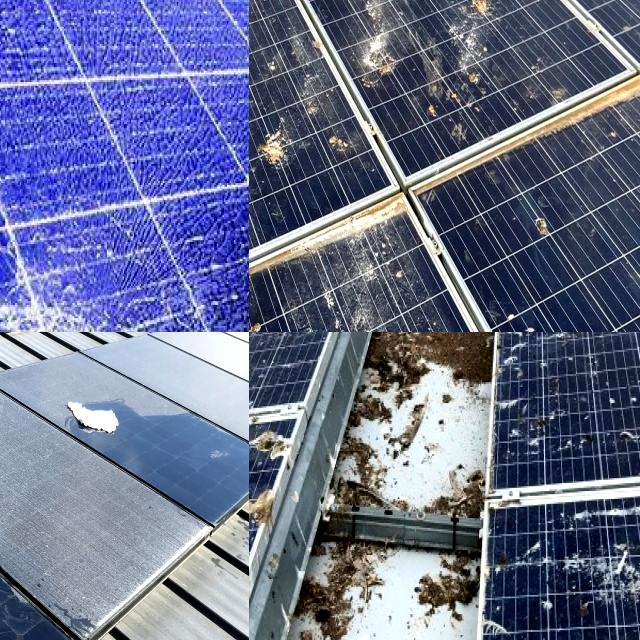bird: (414, 59, 502, 144), (249, 6, 291, 129), (357, 232, 407, 332), (314, 82, 368, 168), (507, 198, 572, 260), (518, 56, 579, 121), (504, 414, 589, 459), (249, 105, 297, 182), (355, 0, 394, 94), (249, 481, 304, 539), (249, 126, 267, 265), (598, 543, 640, 591), (249, 378, 296, 420), (249, 428, 299, 467), (249, 332, 311, 359), (448, 0, 502, 30), (619, 402, 640, 477), (249, 180, 268, 262), (579, 0, 640, 25), (549, 332, 601, 358), (528, 332, 581, 355), (249, 0, 273, 44), (542, 332, 585, 353), (249, 299, 276, 332), (249, 582, 264, 640), (621, 332, 640, 370), (249, 588, 263, 639), (249, 332, 266, 366), (549, 318, 586, 332), (533, 590, 551, 618), (278, 332, 302, 350), (341, 332, 364, 349), (249, 332, 264, 352)
dust: (0, 427, 73, 640), (0, 504, 87, 640), (38, 358, 192, 426), (68, 480, 144, 583), (0, 408, 70, 503), (202, 332, 249, 449), (23, 517, 61, 590), (0, 380, 23, 398)
hotspot: (0, 235, 23, 332)
